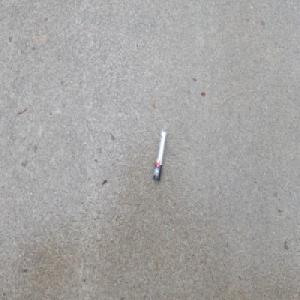Battery: (153, 129, 167, 181)
